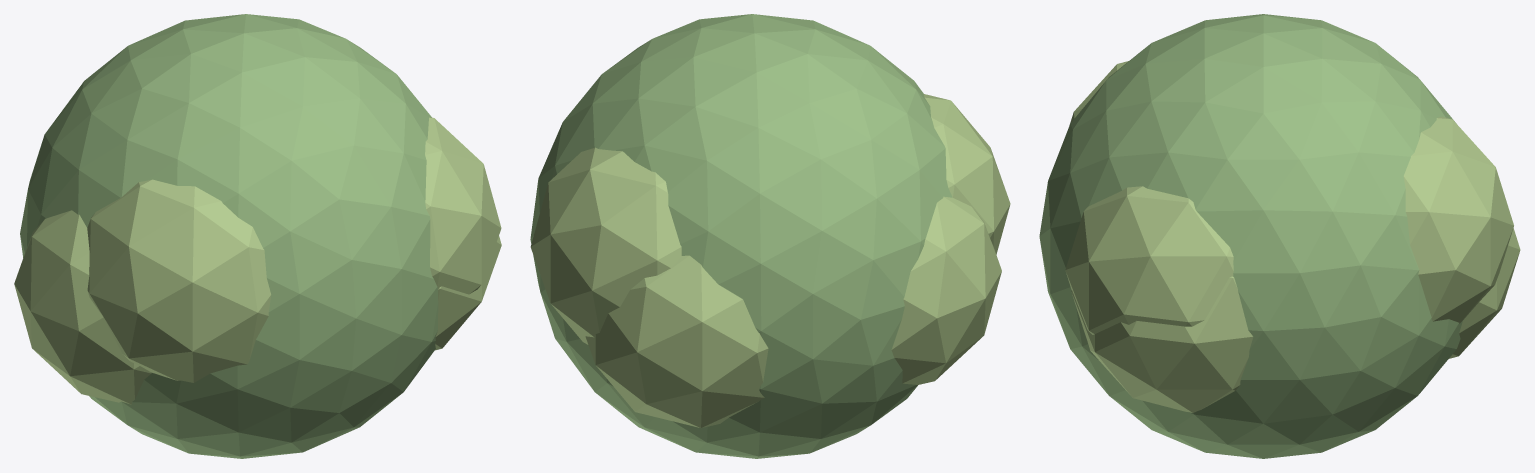
File: bush.glb
3 views of the same model, side by side, from view 1: azimuth 30°, elevation 25°; view 2: azimuth 150°, elevation 25°; view 3: azimuth 270°, elevation 25° (orthographic).
Parts seen in each view (by area): view 1: bush_leaf, bush_leaf2; view 2: bush_leaf, bush_leaf2; view 3: bush_leaf, bush_leaf2.
Part boxes in pixels (x1=…): bush_leaf: x1=20, y1=14, x2=438, y2=458; bush_leaf2: x1=14, y1=117, x2=501, y2=404; bush_leaf: x1=530, y1=14, x2=952, y2=458; bush_leaf2: x1=530, y1=94, x2=1010, y2=427; bush_leaf: x1=1039, y1=14, x2=1462, y2=458; bush_leaf2: x1=1065, y1=61, x2=1520, y2=412.
Size of the model in its own units: 1.11 by 1 by 1.07.
